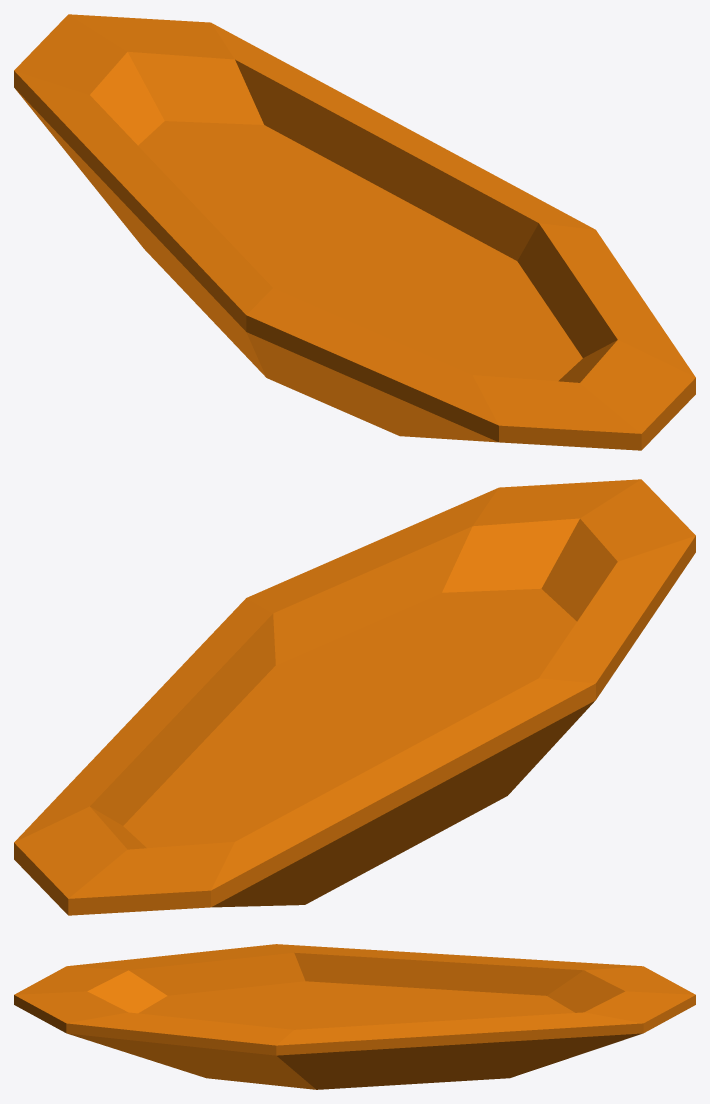
Rendered from ProtoZeppelin_Base.glb.
The picture shows the model from 3 angles, top to bottom: view 1: azimuth 30°, elevation 25°; view 2: azimuth 150°, elevation 25°; view 3: azimuth 270°, elevation 25°; orthographic projection. The views are drawn at different scales.
Parts seen in each view (by area): view 1: Cube; view 2: Cube; view 3: Cube.
Boxes of the visible parts, <box> form: Cube: <box>14,14,695,450</box>; Cube: <box>14,479,695,915</box>; Cube: <box>14,944,695,1089</box>.
Size of the model in its own units: 8.7 by 2.54 by 24.7.
